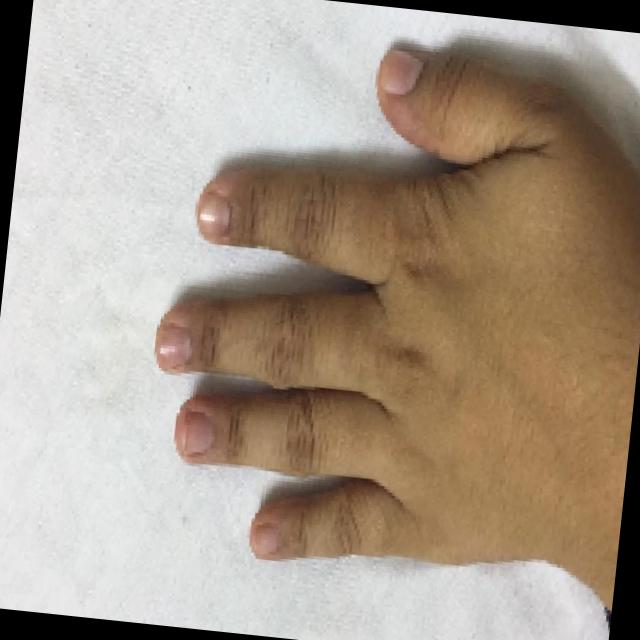Nail: (375, 48, 423, 94), (153, 322, 191, 371), (197, 193, 230, 239), (183, 411, 214, 452), (249, 522, 281, 555)
